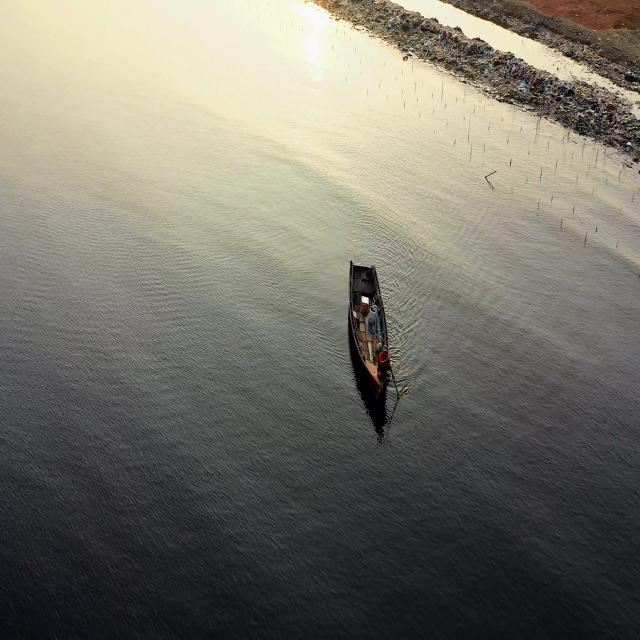ship: (344, 252, 397, 402)
